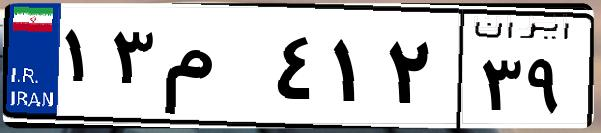1: (330, 28, 385, 110), (57, 26, 110, 100)
2: (385, 28, 445, 110)
3: (475, 38, 525, 113), (110, 28, 158, 98)
4: (270, 28, 330, 110)
9: (525, 38, 570, 115)
م: (158, 20, 270, 120)
